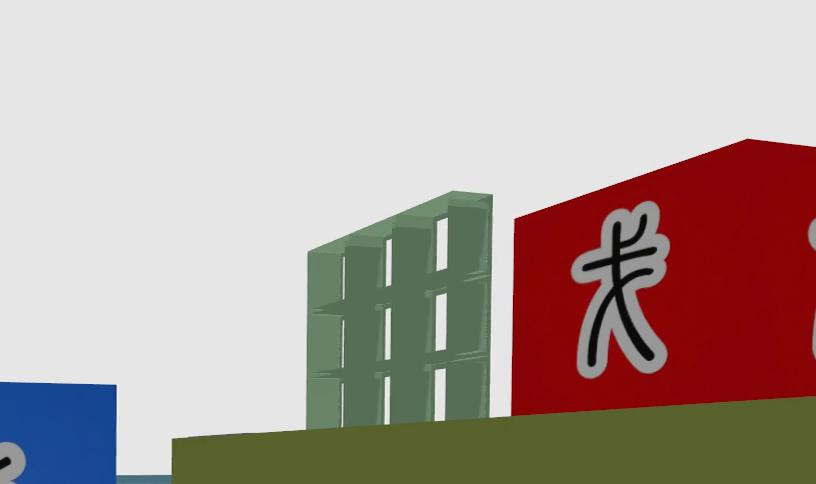KFS_FAKE: (512, 140, 815, 414), (571, 201, 669, 378)
KFS_REAL: (0, 384, 114, 484), (0, 441, 26, 484)
